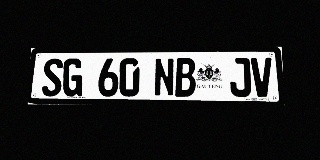0: (119, 58, 139, 97)
6: (98, 58, 119, 96)
B: (175, 58, 196, 97)
G: (62, 58, 83, 96)
J: (229, 58, 251, 97)
N: (154, 58, 174, 97)
S: (42, 58, 63, 96)
V: (250, 57, 273, 97)
